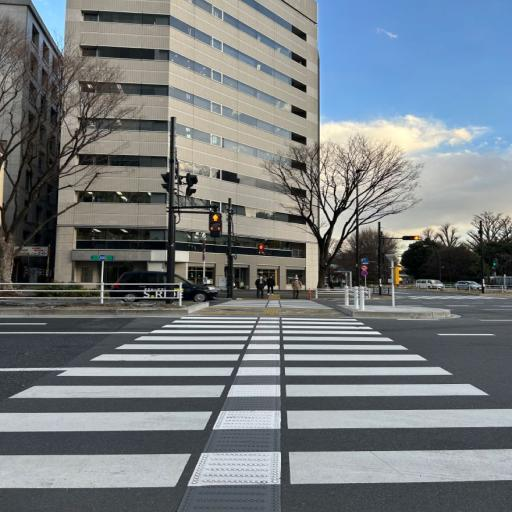book: (109, 268, 226, 312)
chair: (0, 317, 511, 511)
pole: (201, 206, 226, 238), (255, 240, 269, 260)
